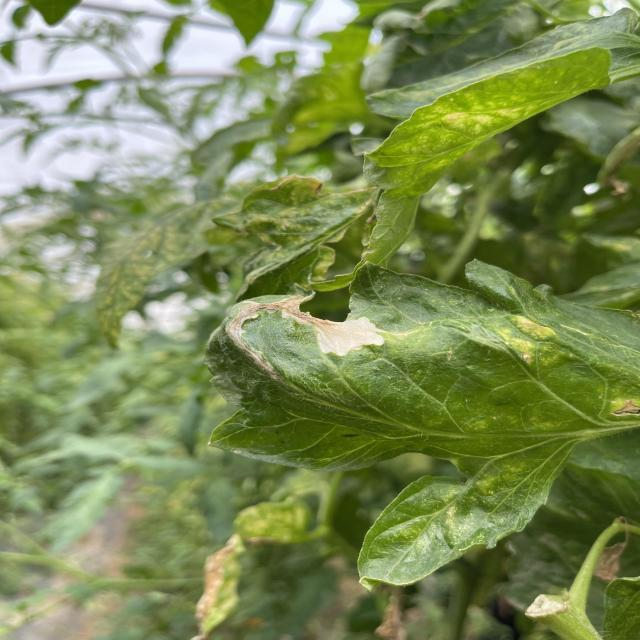Tuta absoluta: (223, 286, 384, 373)
